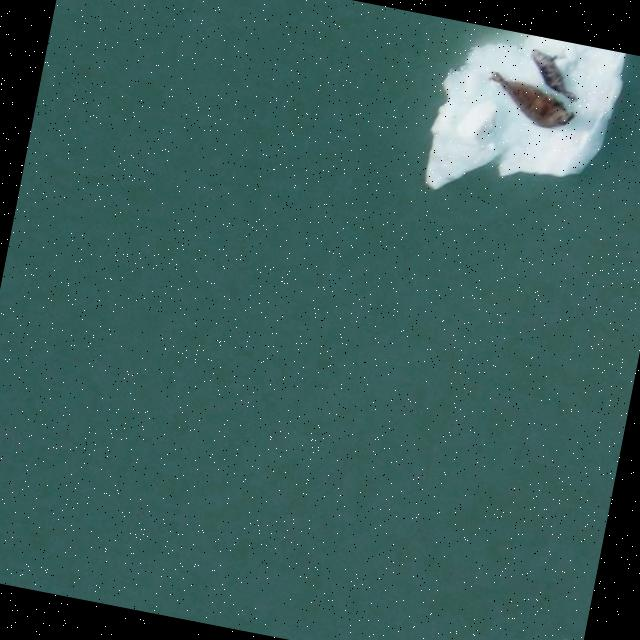seal: (482, 63, 575, 139), (528, 41, 580, 111)
